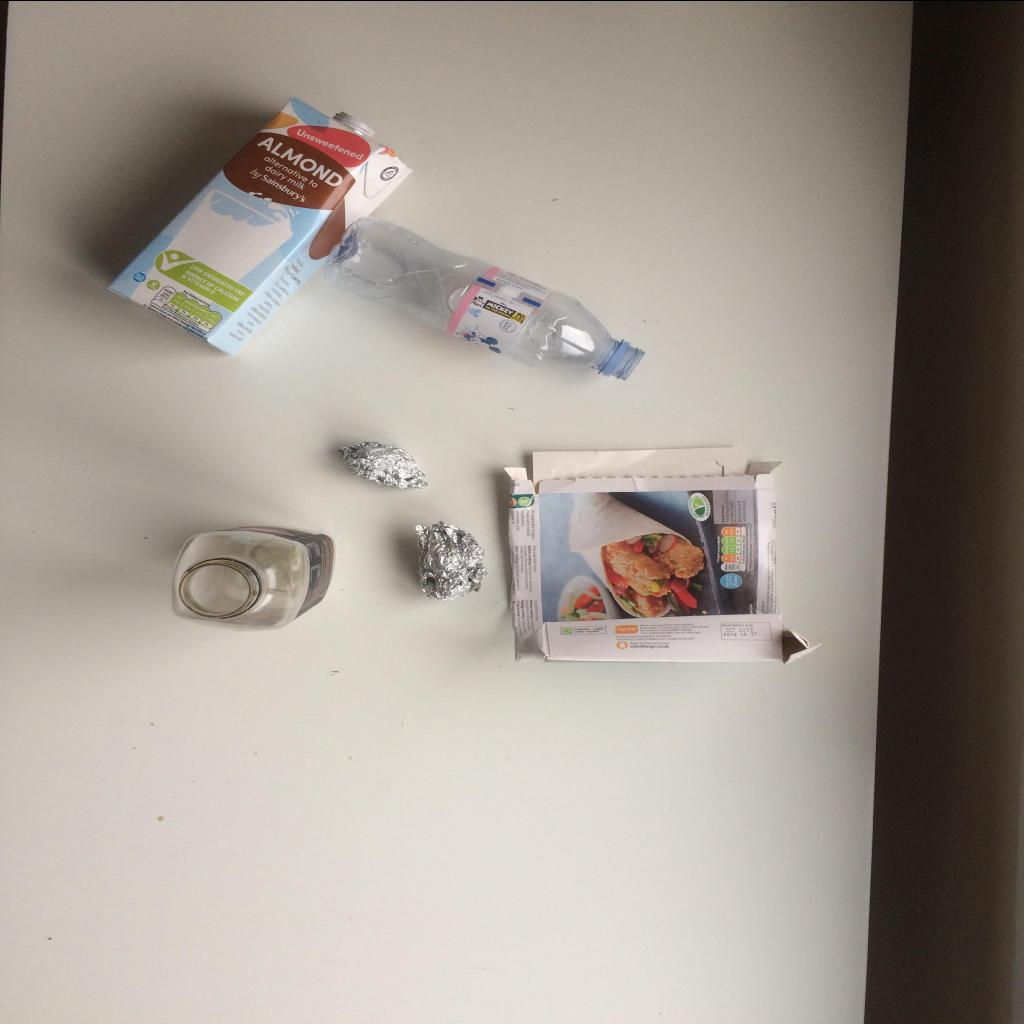Aluminium foil: (416, 520, 487, 600), (338, 440, 428, 490)
Clear plastic bottle: (324, 214, 646, 380), (172, 524, 336, 630)
Drink carton: (105, 96, 413, 355)
Other carton: (504, 446, 822, 662)
